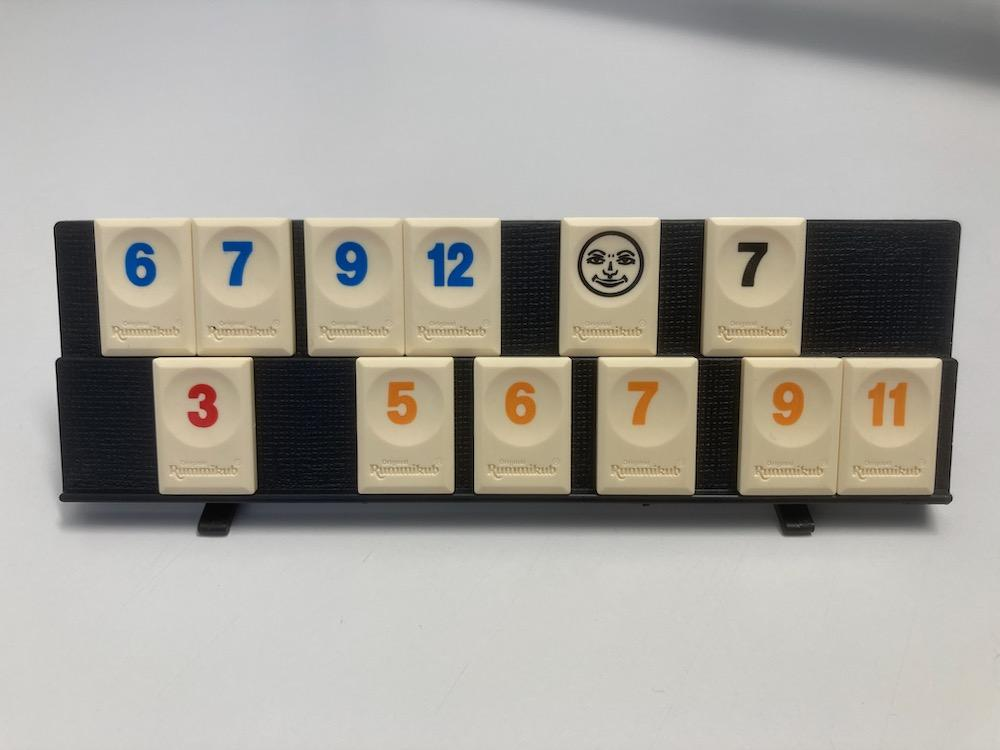black_7: (701, 217, 807, 355)
blue_12: (405, 219, 500, 355)
blue_6: (95, 220, 195, 355)
blue_7: (193, 220, 295, 355)
blue_9: (305, 219, 402, 355)
joker: (559, 217, 660, 357)
orange_11: (838, 357, 941, 494)
orange_5: (357, 358, 453, 494)
orange_6: (475, 357, 570, 494)
orange_7: (598, 360, 697, 494)
orange_9: (740, 357, 841, 494)
red_3: (153, 357, 255, 493)
